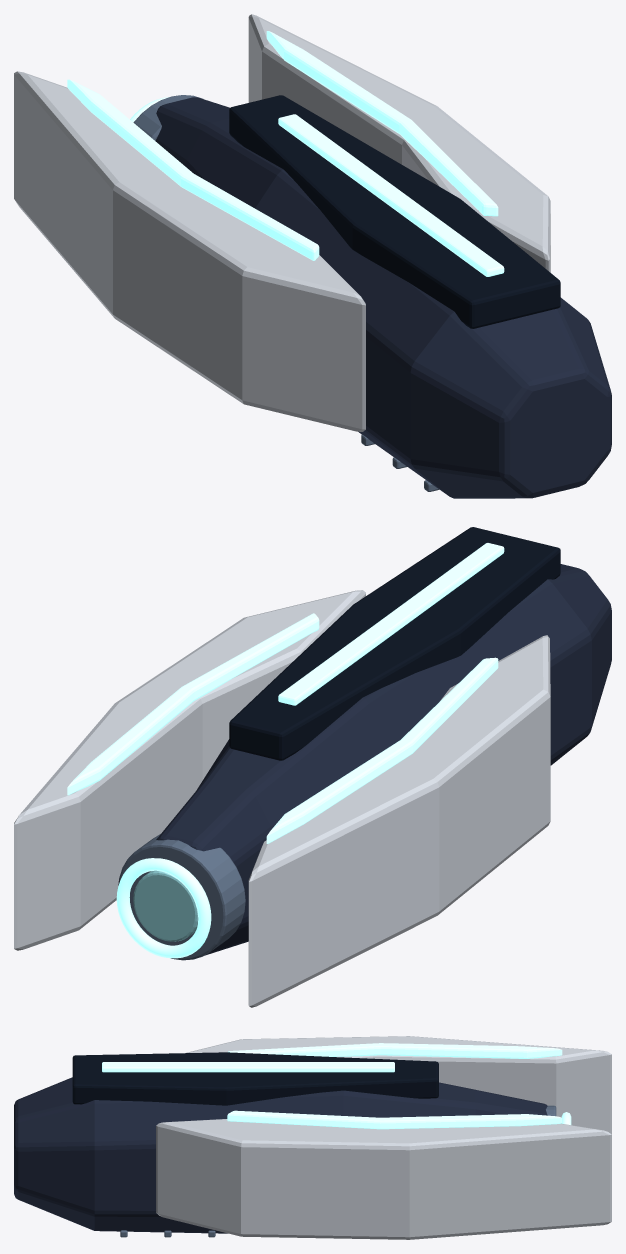
Rendered from Ether_B.fbx.
3 views of the same model, one above another, from view 1: azimuth 30°, elevation 25°; view 2: azimuth 150°, elevation 25°; view 3: azimuth 270°, elevation 25° (orthographic). The views are drawn at different scales.
Visible parts, largest first — view 1: B_02_Fin-1, B_01_CentralBody, B_04_DorsalInset, B_02_Fin1, B_03_InnerChannel-1, B_03_InnerChannel1, B_05_AccentSpine, B_06_FrontSocket; view 2: B_02_Fin-1, B_02_Fin1, B_01_CentralBody, B_04_DorsalInset, B_03_InnerChannel1, B_06_FrontSocket, B_03_InnerChannel-1, B_05_AccentSpine, B_08_EmitterRing, B_07_Core; view 3: B_02_Fin1, B_01_CentralBody, B_04_DorsalInset, B_02_Fin-1, B_03_InnerChannel1, B_03_InnerChannel-1, B_05_AccentSpine.
Part boxes in pixels (<box>): B_02_Fin-1: <box>14,71,365,431</box>; B_01_CentralBody: <box>155,97,611,498</box>; B_04_DorsalInset: <box>229,95,560,328</box>; B_02_Fin1: <box>248,14,550,272</box>; B_03_InnerChannel-1: <box>67,79,319,260</box>; B_03_InnerChannel1: <box>266,31,498,216</box>; B_05_AccentSpine: <box>278,114,504,276</box>; B_06_FrontSocket: <box>133,95,202,140</box>; B_02_Fin-1: <box>248,635,550,1007</box>; B_02_Fin1: <box>14,590,365,950</box>; B_01_CentralBody: <box>156,564,611,955</box>; B_04_DorsalInset: <box>229,527,560,760</box>; B_03_InnerChannel1: <box>67,613,319,795</box>; B_06_FrontSocket: <box>118,834,245,960</box>; B_03_InnerChannel-1: <box>266,657,498,843</box>; B_05_AccentSpine: <box>278,543,504,705</box>; B_08_EmitterRing: <box>116,858,211,958</box>; B_07_Core: <box>133,870,198,941</box>; B_02_Fin1: <box>156,1119,611,1239</box>; B_01_CentralBody: <box>14,1077,547,1233</box>; B_04_DorsalInset: <box>72,1052,438,1105</box>; B_02_Fin-1: <box>185,1036,611,1134</box>; B_03_InnerChannel1: <box>227,1110,562,1129</box>; B_03_InnerChannel-1: <box>228,1043,562,1058</box>; B_05_AccentSpine: <box>102,1062,394,1072</box>.
Bounding box in the file's own units: 0.036 × 0.0238 × 0.0816.
